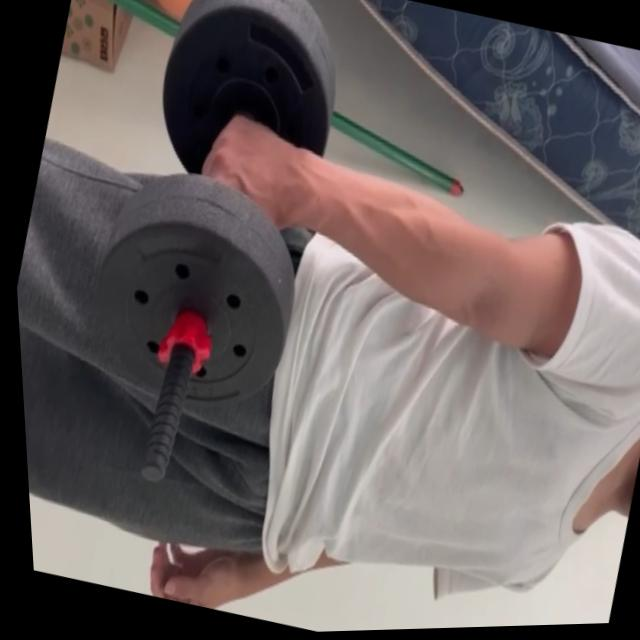hammer: (55, 0, 382, 431)
